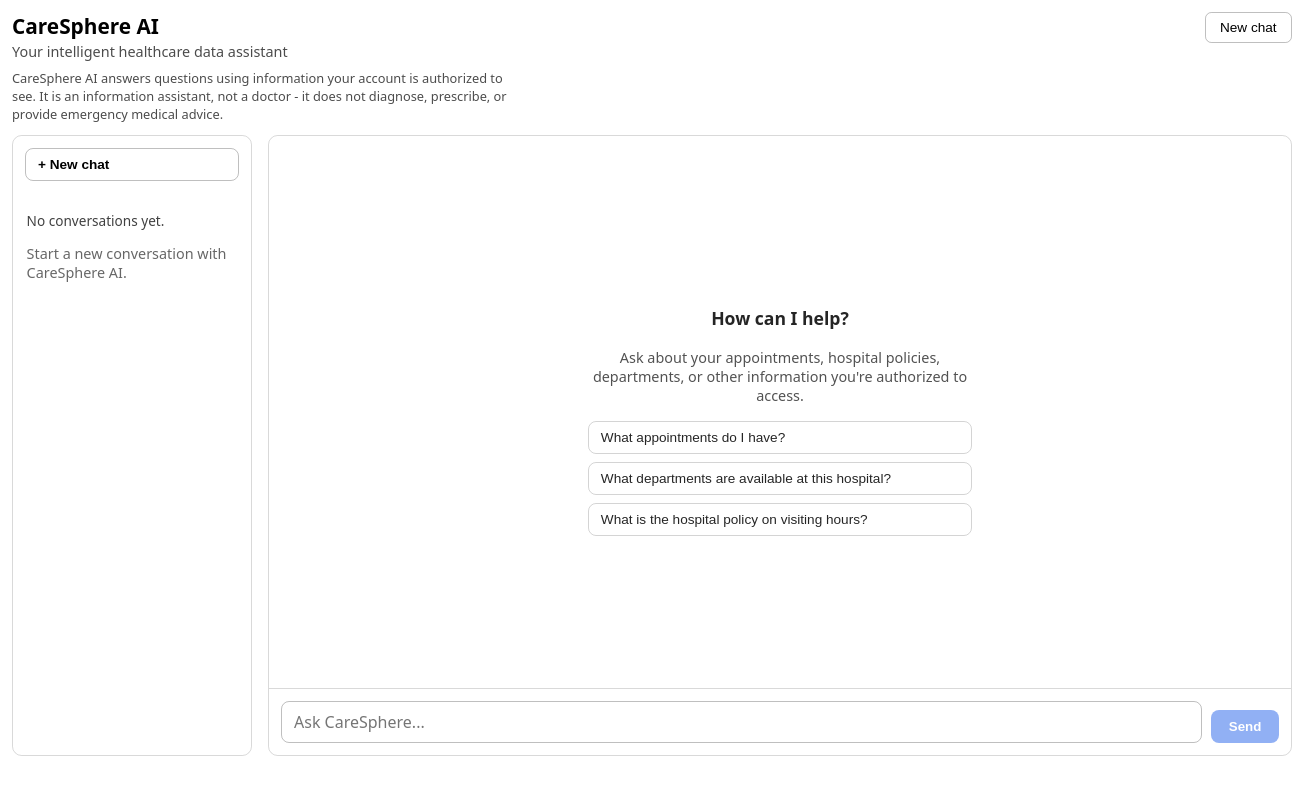
it: ChatPage › continues the same conversation on the next turn using the backend-assigned id
This screenshot has width=1304, height=812.
Step 1. Type "First question" into the text box named "Ask CareSphere AI a question" → (741, 722), box [281,701,1202,743]
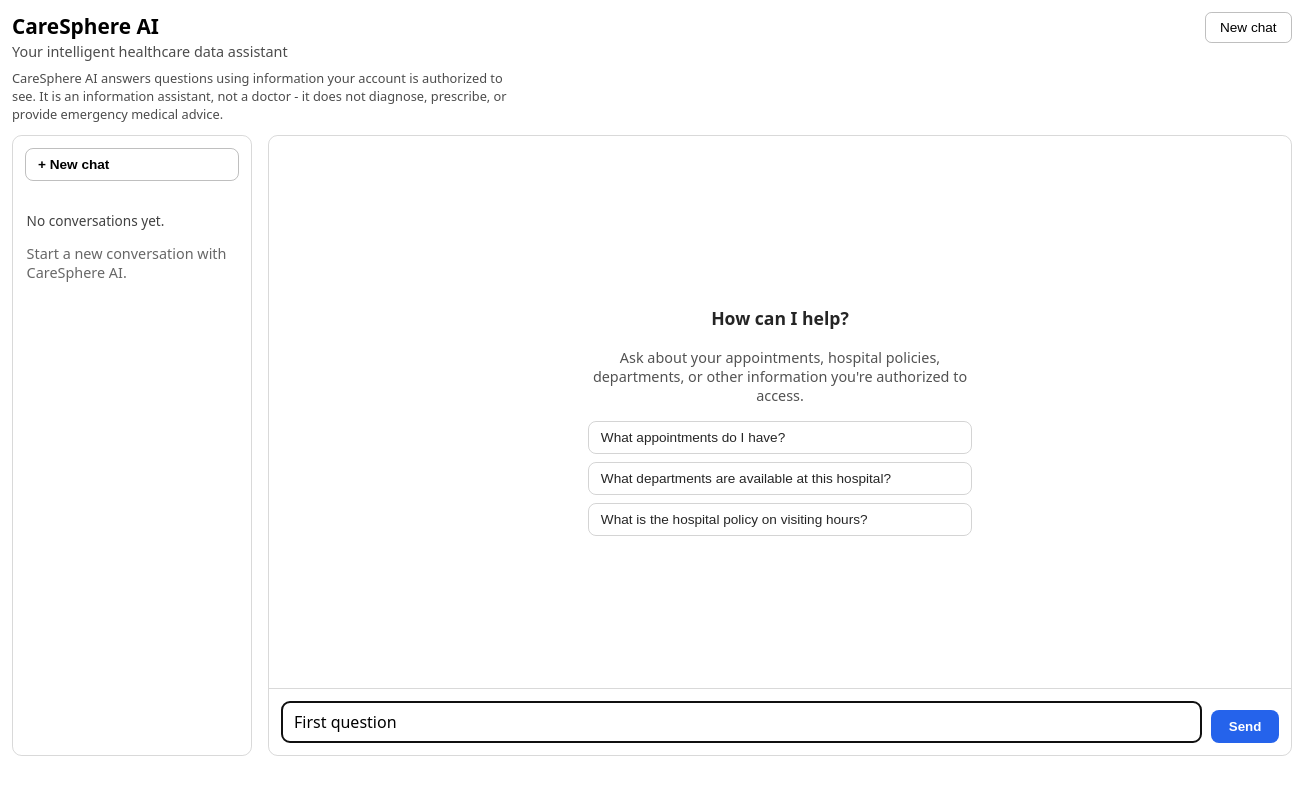
Step 2. Click the button "Send" → (1245, 727), box [1211,710,1279,743]
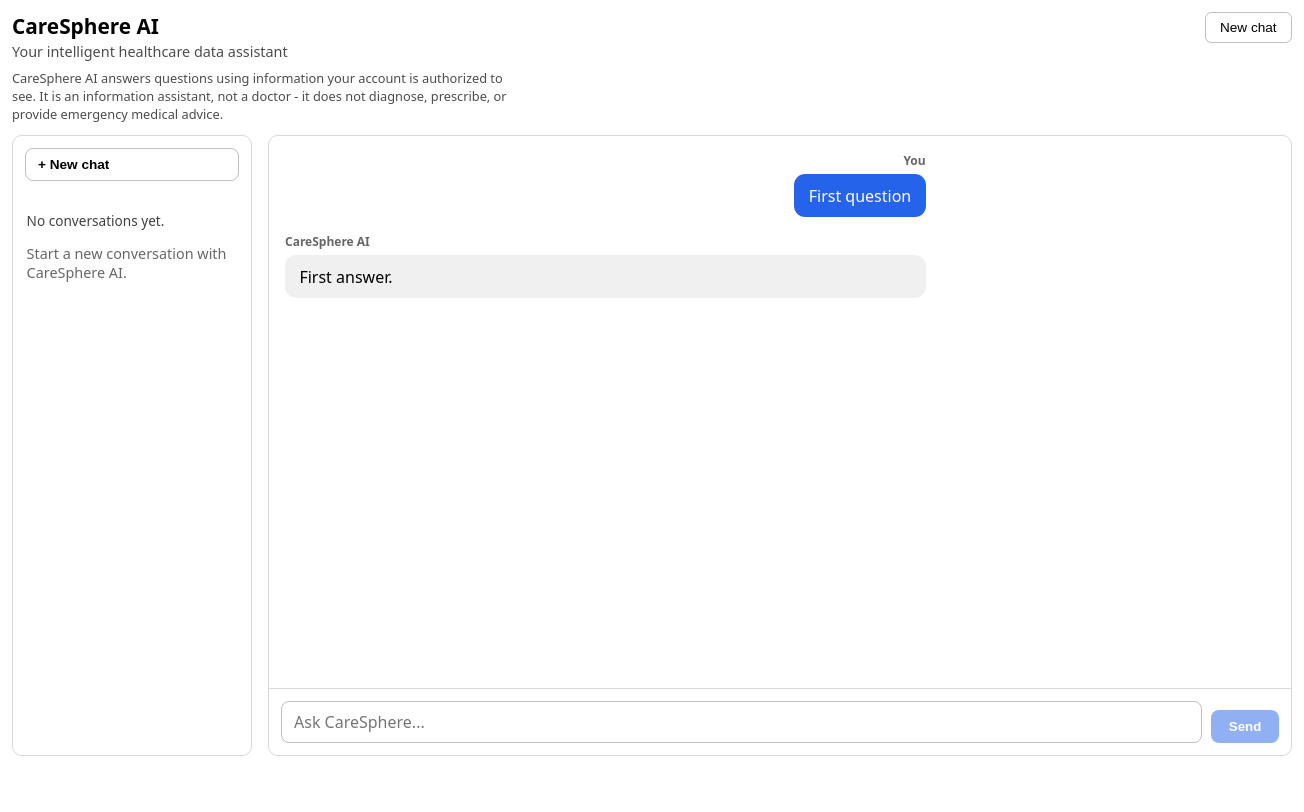
expect the text "First answer." is shown: met, box [299,266,392,288]
Step 3. Type "Second question" into the text box named "Ask CareSphere AI a question" → (741, 722), box [281,701,1202,743]
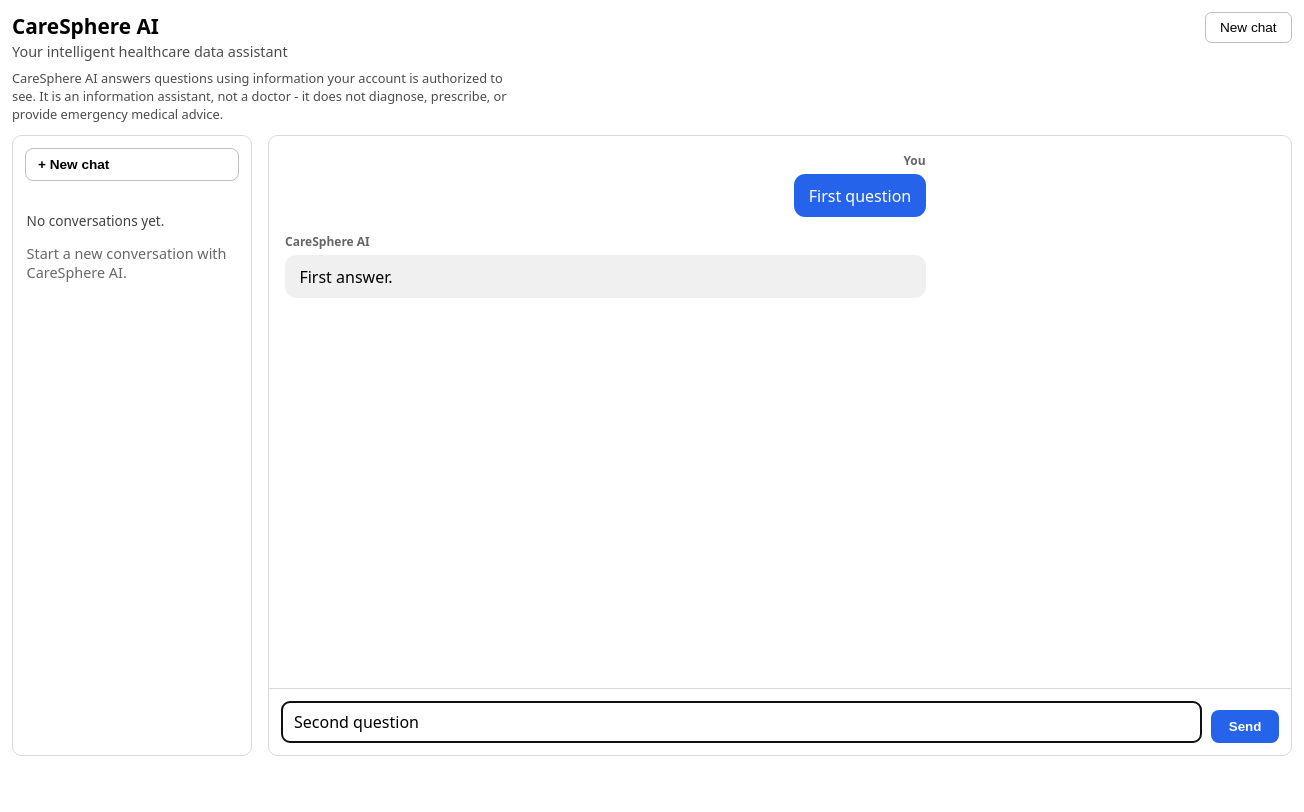
Step 4. Click the button "Send" → (1245, 727), box [1211,710,1279,743]
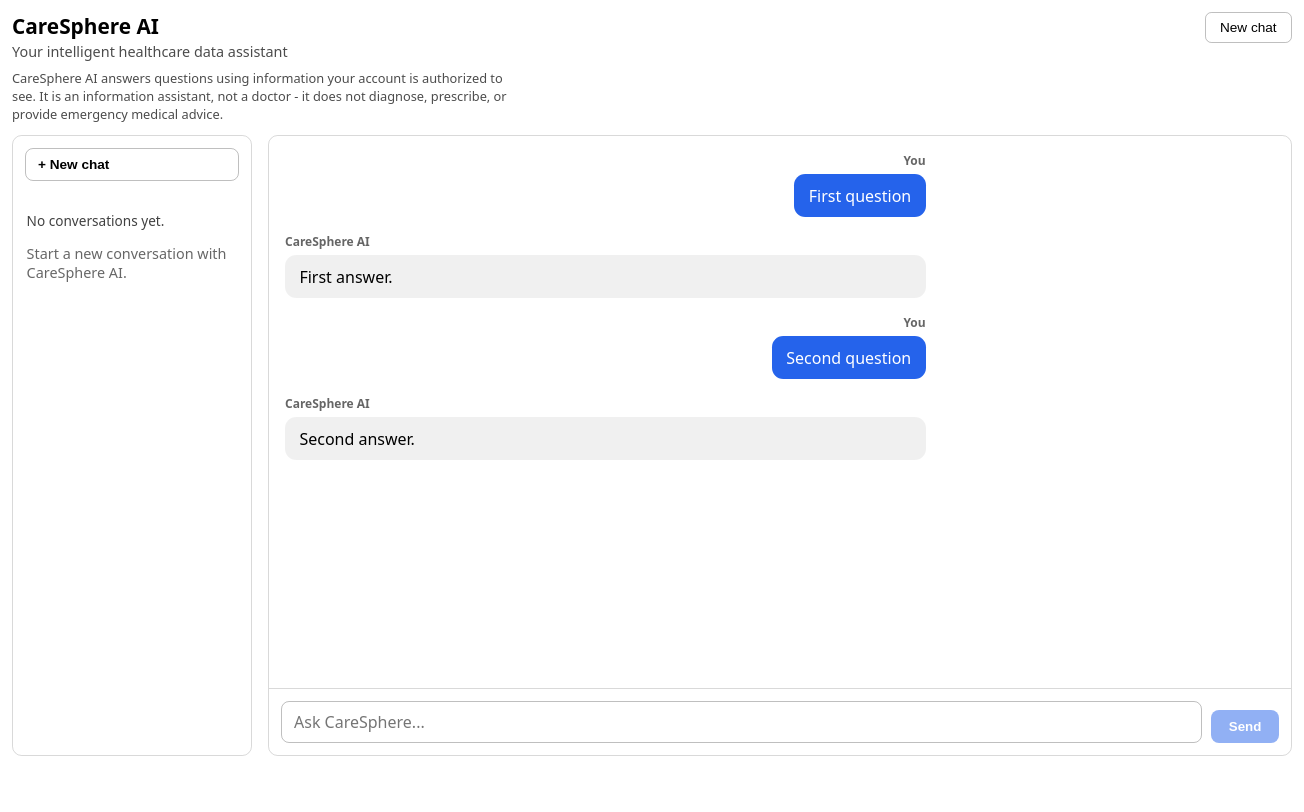
expect the text "Second answer." is shown: met, box [299,428,415,450]
